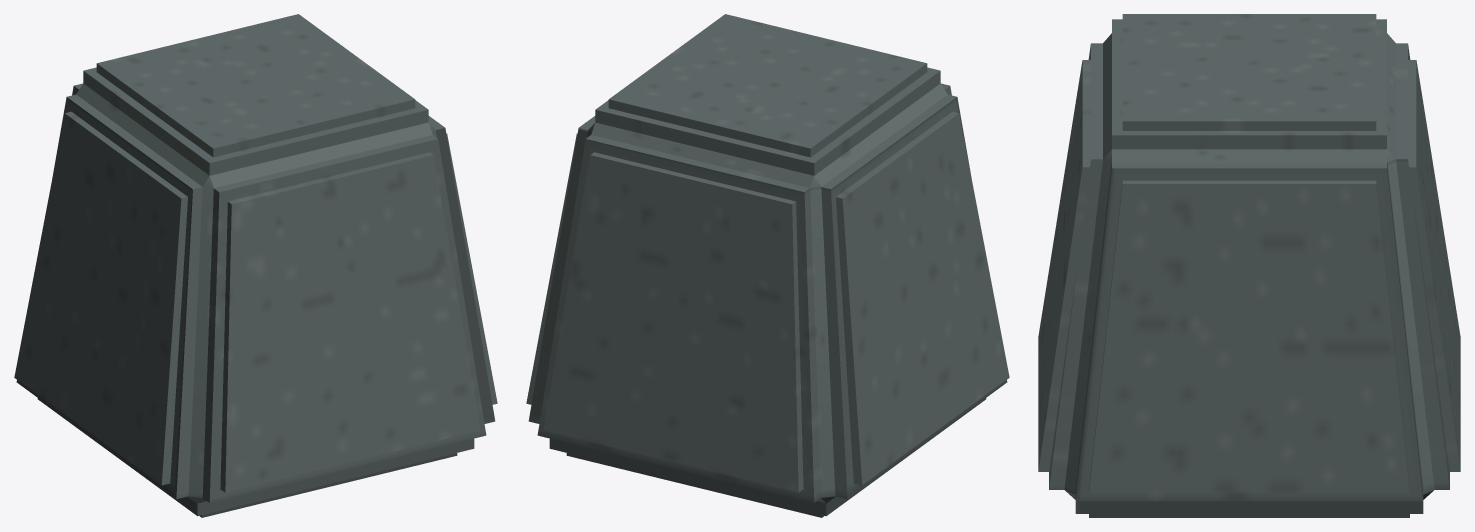
File: Stone 5.fbx
The picture shows the model from 3 angles, left to right: view 1: azimuth 30°, elevation 25°; view 2: azimuth 150°, elevation 25°; view 3: azimuth 270°, elevation 25°; orthographic projection. The views are drawn at different scales.
Visible parts, largest first — view 1: Stone 5; view 2: Stone 5; view 3: Stone 5.
Boxes of the visible parts, x1,y1,x2,y2 form: Stone 5: (14,14,497,517); Stone 5: (526,14,1009,517); Stone 5: (1038,14,1460,517).
Size of the model in its own units: 73.05 by 73.05 by 73.05.
1 material, 1 textured.
